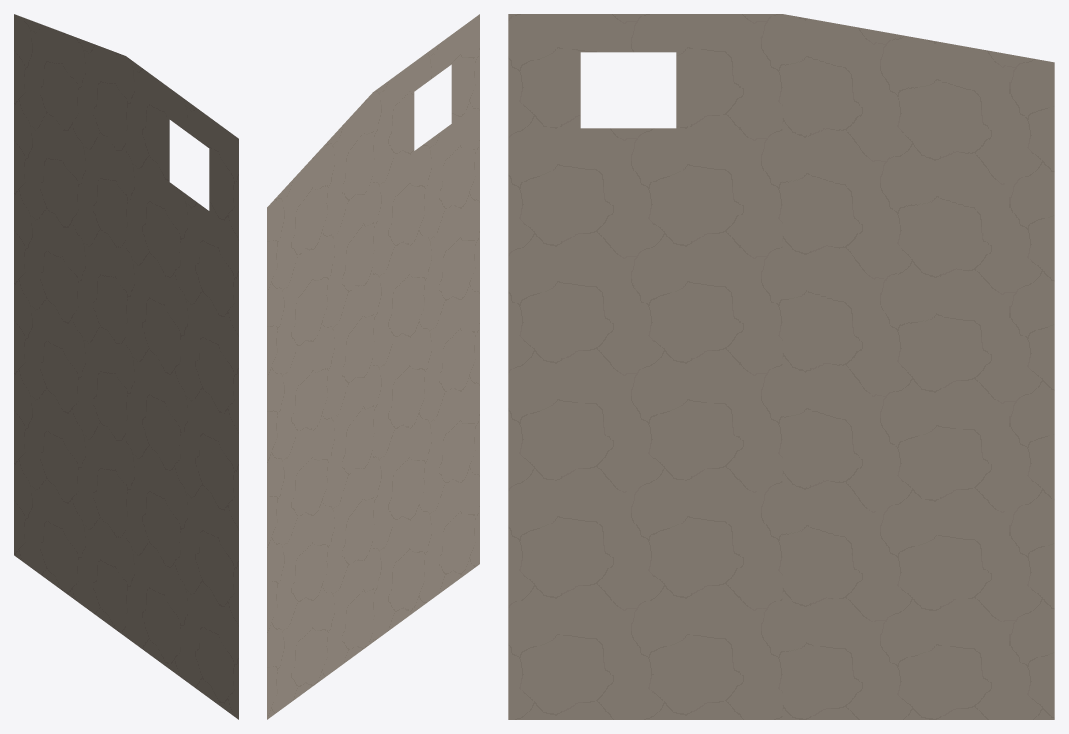
The model's file is kd_stage_135ded_4_144_bounded_piece_5.glb.
The picture shows the model from 3 angles, left to right: view 1: azimuth 30°, elevation 25°; view 2: azimuth 150°, elevation 25°; view 3: azimuth 270°, elevation 25°; orthographic projection. The views are drawn at different scales.
Visible parts, largest first — view 1: kd_stage_135ded_4_144_bounded_piece_5; view 2: kd_stage_135ded_4_144_bounded_piece_5; view 3: kd_stage_135ded_4_144_bounded_piece_5.
Boxes of the visible parts, left/top/right/bottom form: kd_stage_135ded_4_144_bounded_piece_5: left=14, top=14, right=238, bottom=719; kd_stage_135ded_4_144_bounded_piece_5: left=267, top=14, right=479, bottom=719; kd_stage_135ded_4_144_bounded_piece_5: left=508, top=14, right=1054, bottom=719.
Bounding box in the file's own units: 3.58e-07 × 2.44 × 1.71.
Materials: 1 (1 with a texture image).
